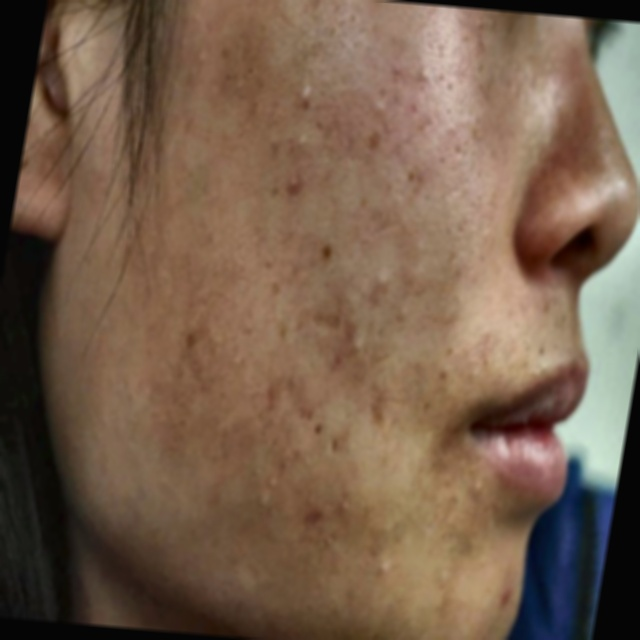comedone: (291, 497, 334, 558), (270, 145, 304, 202), (489, 578, 519, 615)
